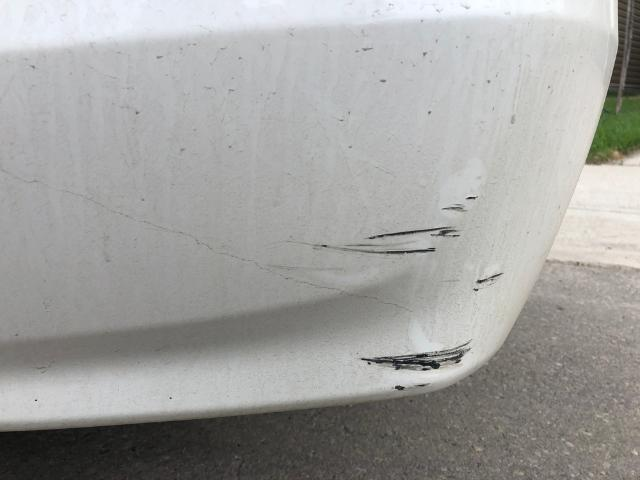scratch: (302, 192, 509, 395)
